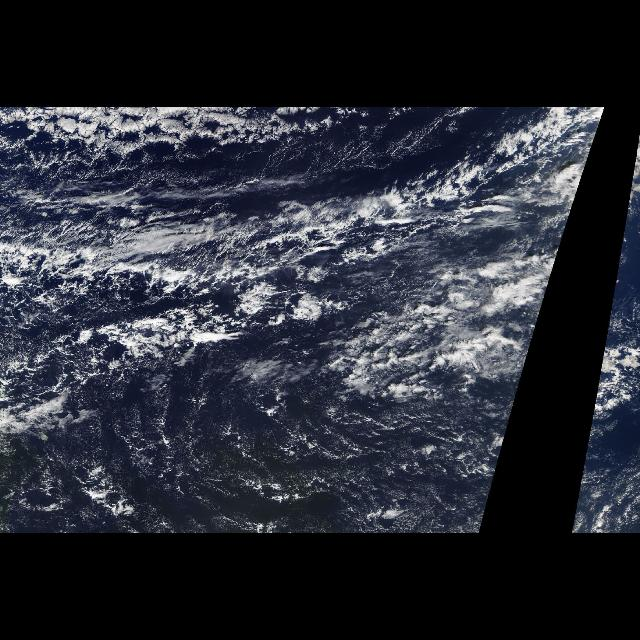Fish: (6, 140, 578, 310)
Gravel: (1, 254, 491, 462)
Sugar: (69, 384, 509, 530)
